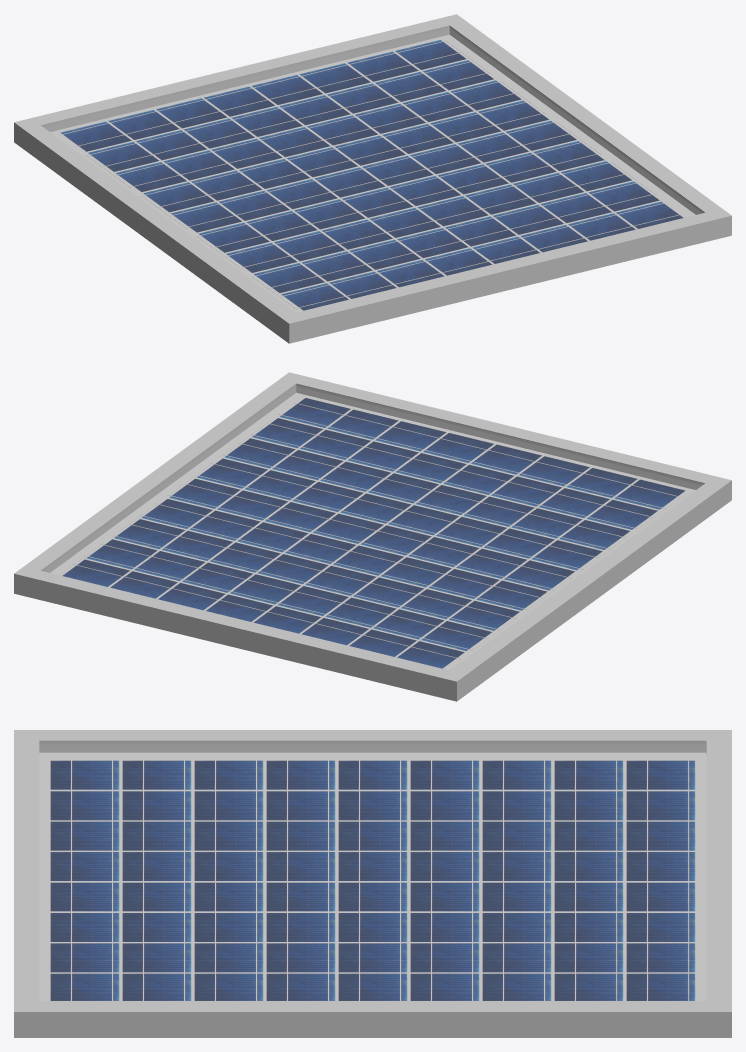
File: panel5.glb
3 renders of one model, top to bottom at view 1: azimuth 30°, elevation 25°; view 2: azimuth 150°, elevation 25°; view 3: azimuth 270°, elevation 25°, orthographic. The views are drawn at different scales.
Visible parts, largest first — view 1: Cube.027_17, Cube.026_16, Cube.031_21, Cube.029_19, Cube.030_20, Cube.028_18, Plane.013_37, Plane.028_56, Plane.002_24, Plane.003_25, Plane.008_32, Plane.011_35 (+66 smaller); view 2: Cube.027_17, Cube.026_16, Cube.030_20, Cube.029_19, Cube.031_21, Cube.028_18, Plane.015_39, Plane.038_68, Plane.040_0, Plane.045_5, Plane.009_33, Plane.018_44 (+66 smaller); view 3: Cube.027_17, Cube.026_16, Cube.028_18, Cube.029_19, Cube.030_20, Cube.031_21, Plane_22, Plane.003_25, Plane.004_26, Plane.005_27, Plane.007_29, Plane.008_32 (+66 smaller).
Part boxes in pixels (bbox=[...]): Cube.027_17: bbox=[43, 27, 703, 311]; Cube.026_16: bbox=[50, 34, 695, 312]; Cube.031_21: bbox=[296, 212, 714, 339]; Cube.029_19: bbox=[14, 118, 305, 343]; Cube.030_20: bbox=[31, 18, 449, 131]; Cube.028_18: bbox=[440, 14, 731, 239]; Plane.013_37: bbox=[136, 130, 206, 160]; Plane.028_56: bbox=[143, 182, 214, 212]; Plane.002_24: bbox=[300, 63, 370, 93]; Plane.003_25: bbox=[252, 75, 322, 104]; Plane.008_32: bbox=[375, 72, 445, 101]; Plane.011_35: bbox=[279, 95, 349, 125]; Cube.027_17: bbox=[42, 385, 702, 669]; Cube.026_16: bbox=[50, 392, 695, 670]; Cube.030_20: bbox=[31, 570, 449, 697]; Cube.029_19: bbox=[440, 476, 731, 701]; Cube.031_21: bbox=[296, 376, 714, 489]; Cube.028_18: bbox=[14, 372, 305, 597]; Plane.015_39: bbox=[325, 597, 396, 627]; Plane.038_68: bbox=[360, 525, 431, 555]; Plane.040_0: bbox=[245, 470, 315, 500]; Plane.045_5: bbox=[484, 528, 554, 558]; Plane.009_33: bbox=[86, 539, 157, 569]; Plane.018_44: bbox=[210, 542, 280, 572]; Cube.027_17: bbox=[39, 742, 706, 1000]; Cube.026_16: bbox=[39, 752, 706, 1000]; Cube.028_18: bbox=[14, 1001, 731, 1037]; Cube.029_19: bbox=[14, 730, 731, 752]; Cube.030_20: bbox=[706, 740, 731, 1000]; Cube.031_21: bbox=[14, 740, 39, 1000]; Plane_22: bbox=[626, 943, 695, 972]; Plane.003_25: bbox=[626, 882, 695, 911]; Plane.004_26: bbox=[626, 760, 695, 789]; Plane.005_27: bbox=[626, 791, 695, 820]; Plane.007_29: bbox=[626, 821, 695, 850]; Plane.008_32: bbox=[554, 943, 623, 972].
Size of the model in its own units: 19.45 by 0.8401 by 20.94.
13 materials, 1 textured.
